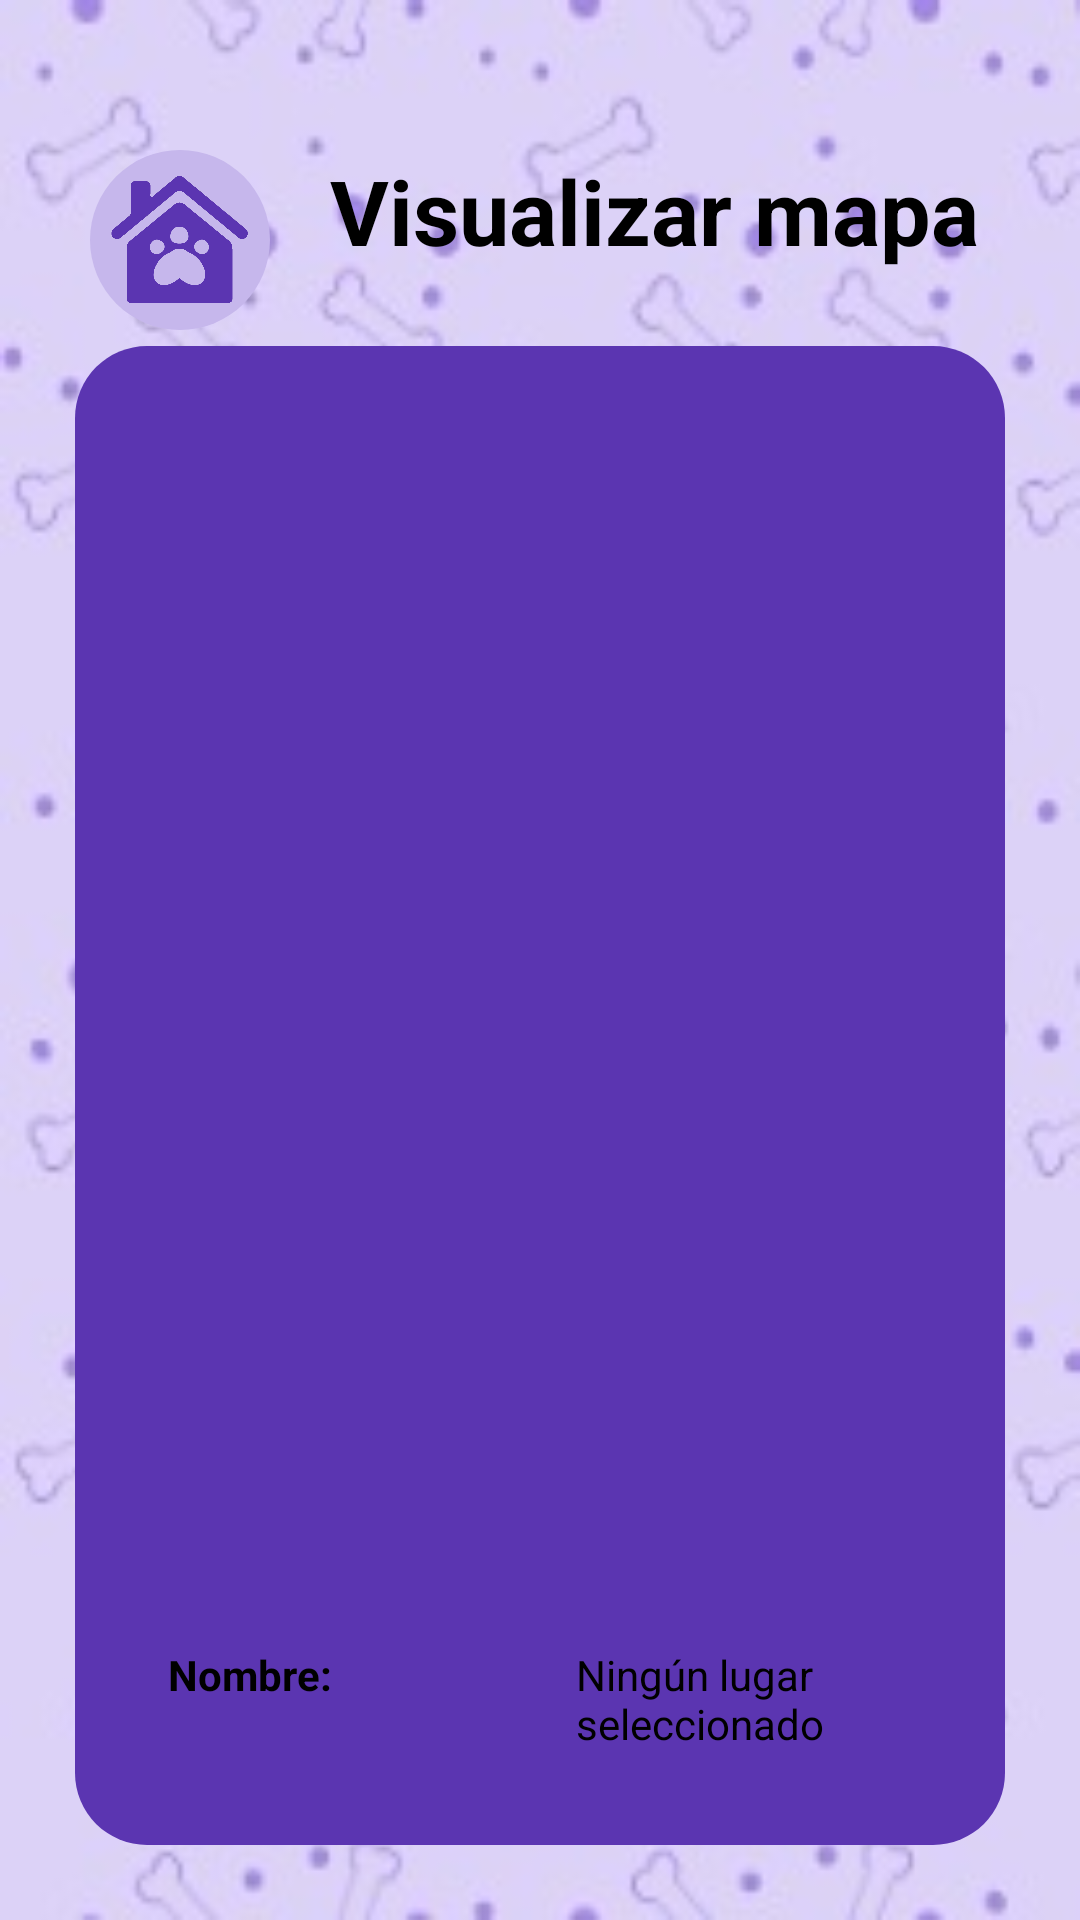

Icons on this 1080×1920 Android screen, each with its box as (x1, y1, x2, y2):
Volver al inicio: (90, 150, 270, 330)
